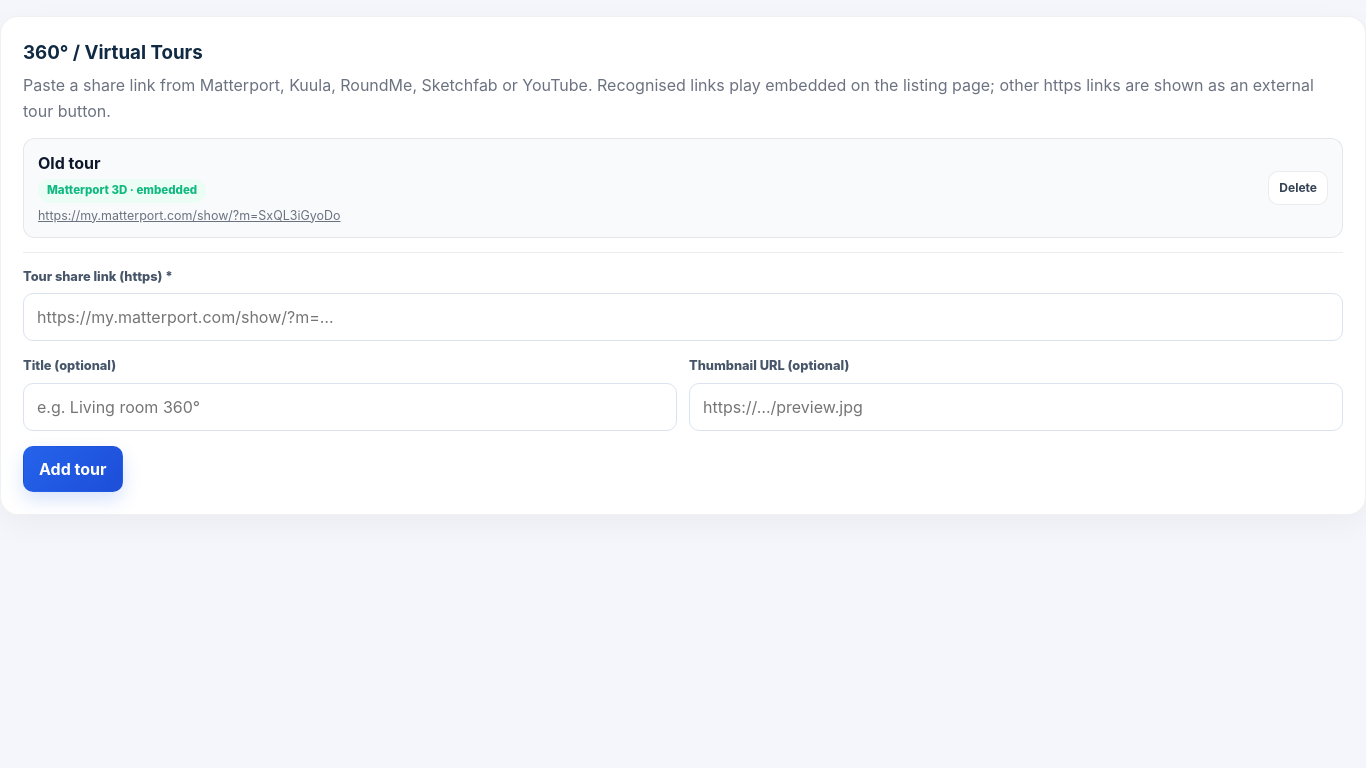
TourEditor › deletes a tour via two-step confirmation
The width and height of the screenshot is (1366, 768).
Expected: the text "Old tour" is shown, top-left (38, 153), bottom-right (100, 173)
Click the button "Delete": (1298, 188) top-left (1268, 171), bottom-right (1328, 205)
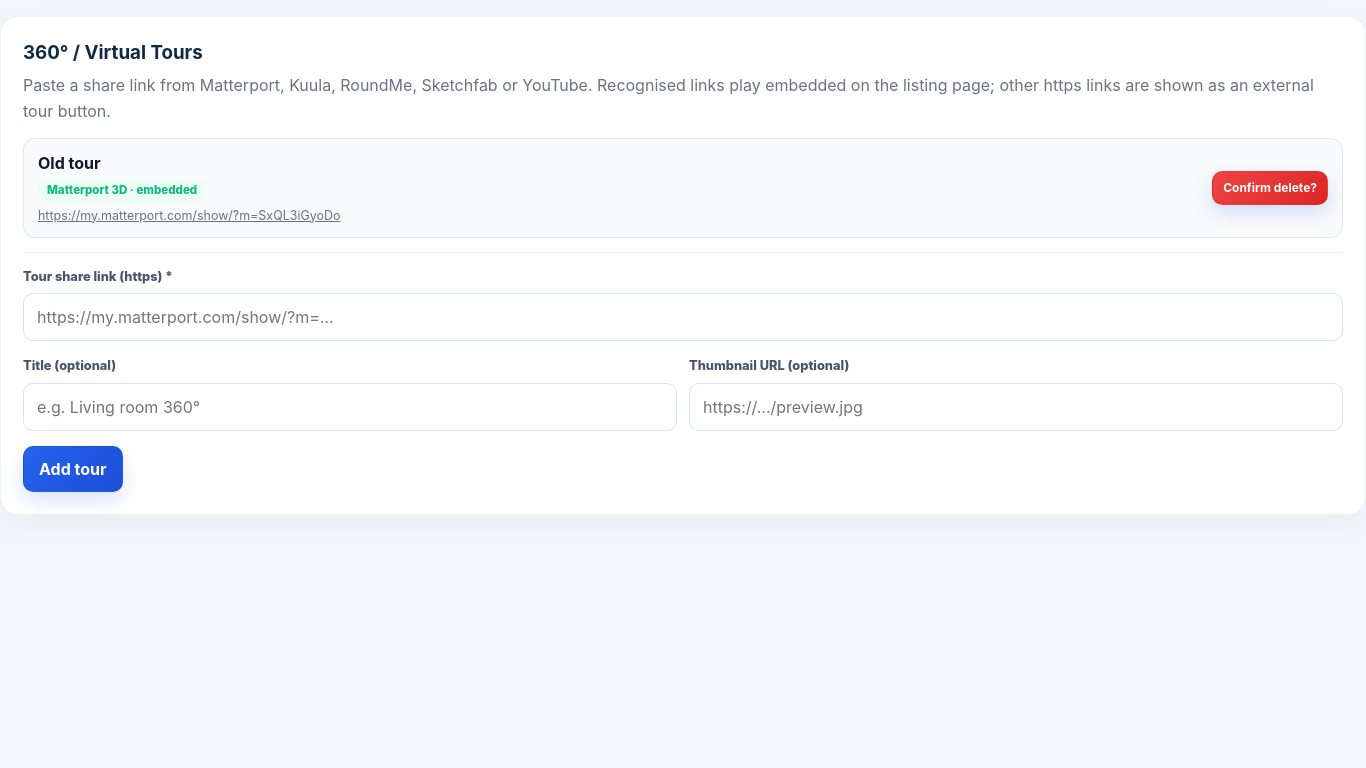
Click the button "Confirm delete?": (1270, 188) top-left (1212, 171), bottom-right (1328, 205)
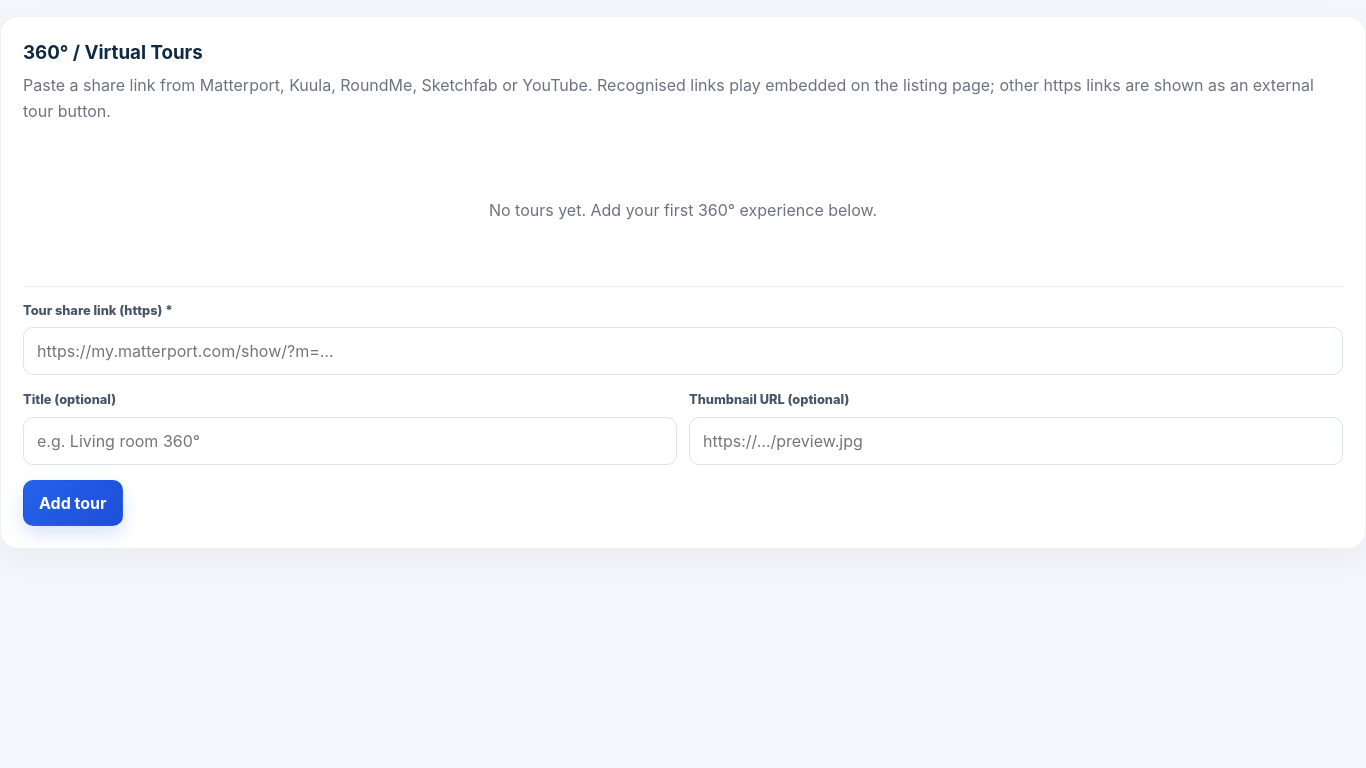
Expected: the text "Old tour" is gone
